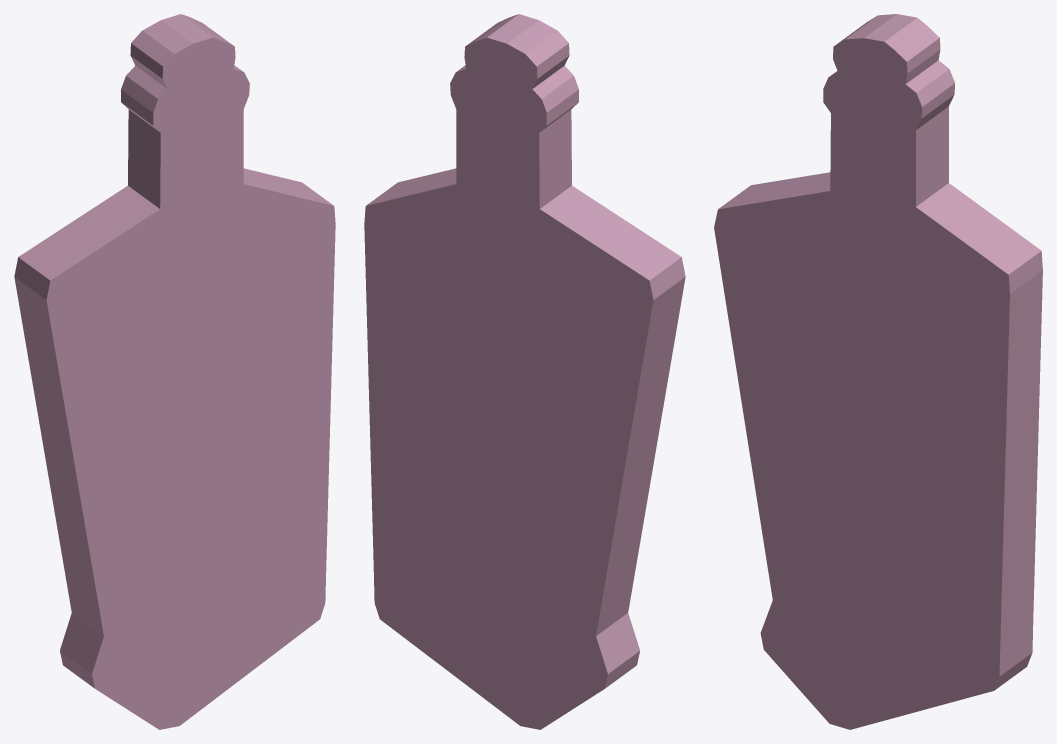
File: Potion_1.fbx
3 views of the same model, side by side, from view 1: azimuth 30°, elevation 25°; view 2: azimuth 150°, elevation 25°; view 3: azimuth 330°, elevation 25° (orthographic). The views are drawn at different scales.
Visible parts, largest first — view 1: pPlane25; view 2: pPlane25; view 3: pPlane25.
Boxes of the visible parts, x1,y1,x2,y2 form: pPlane25: (14, 14, 335, 729); pPlane25: (364, 14, 685, 729); pPlane25: (714, 14, 1042, 729).
Size of the model in its own units: 0.1301 by 0.2926 by 0.0251.
